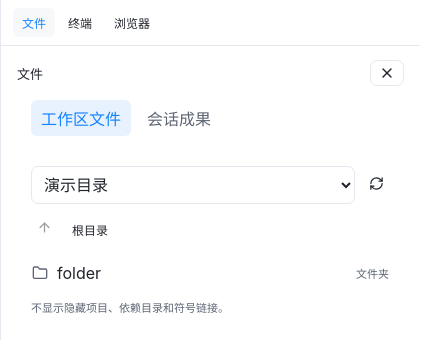
ordinary rail returns from preview to the same folder and retains session artifacts
Click the button "folder 文件夹" at (79, 273), box [25, 254, 396, 292]
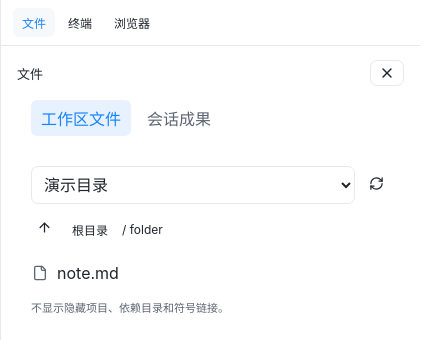
Click the button "note.md" at (88, 273), box [25, 254, 396, 292]
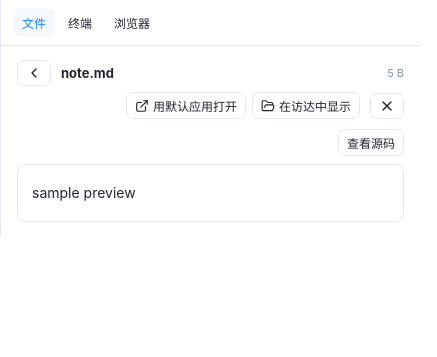
Check: the text "sample preview" is shown, box [32, 184, 136, 201]
Click the button named "返回文件列表" at (34, 73), box [17, 60, 51, 86]
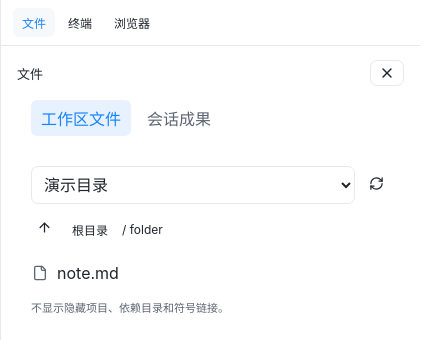
Check: the button "note.md" is shown, box [25, 254, 396, 292]
Click the button "会话成果" at (179, 118), box [137, 100, 221, 136]
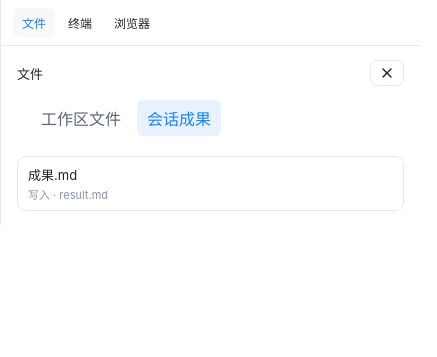
Check: the button "终端" is shown, box [59, 8, 101, 37]
Check: the text "成果.md" is shown, box [28, 165, 77, 184]
